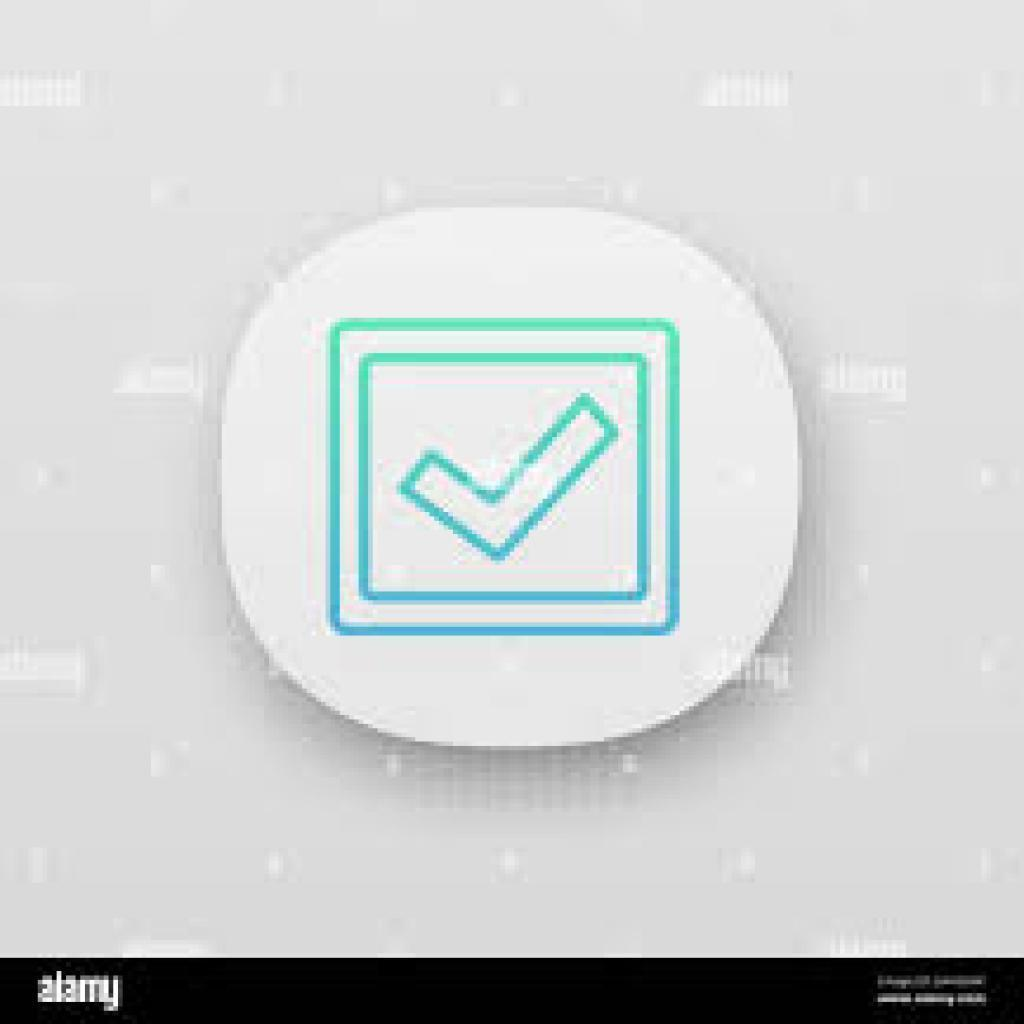checkbox: (333, 314, 683, 645)
